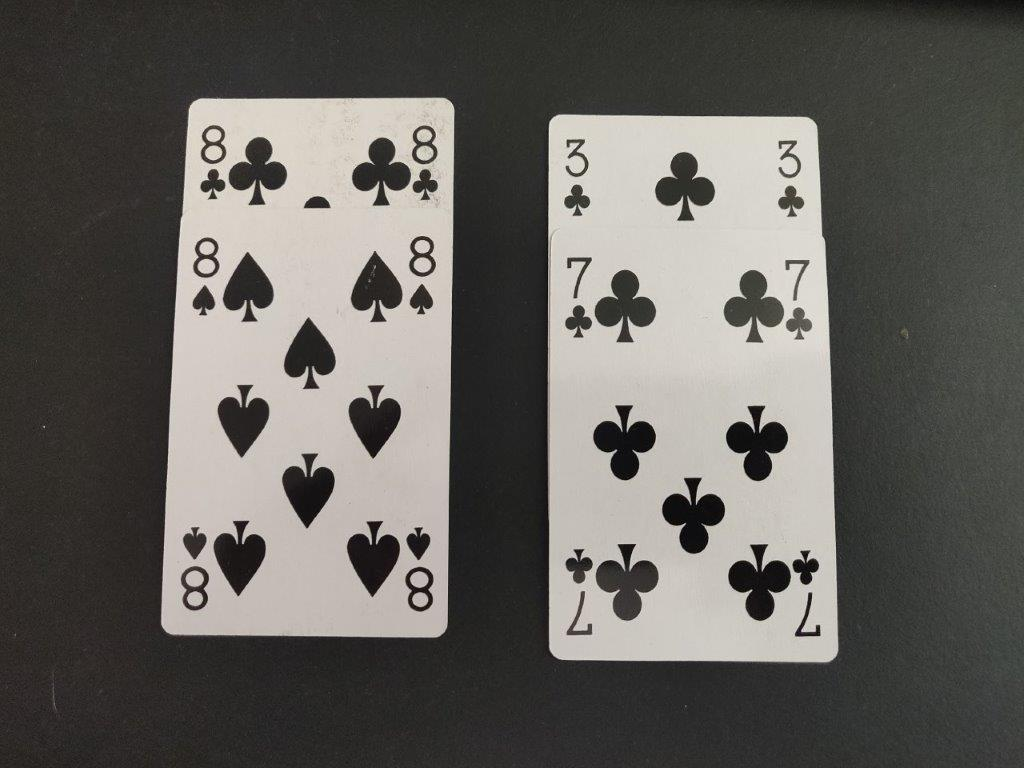3C: (554, 126, 600, 223), (768, 133, 810, 223)
7C: (552, 248, 600, 342), (777, 249, 819, 344)
8C: (402, 119, 442, 212), (191, 116, 231, 202)
8S: (186, 230, 224, 333), (400, 228, 438, 325)
